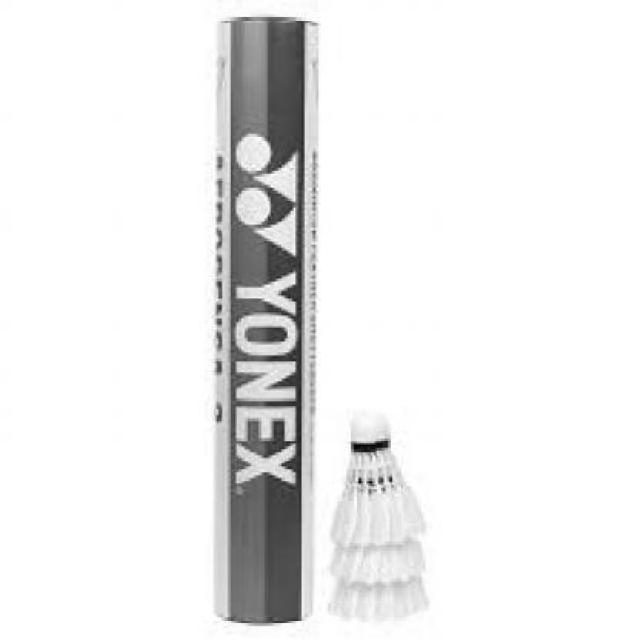Shuttlecock: (323, 403, 431, 625)
